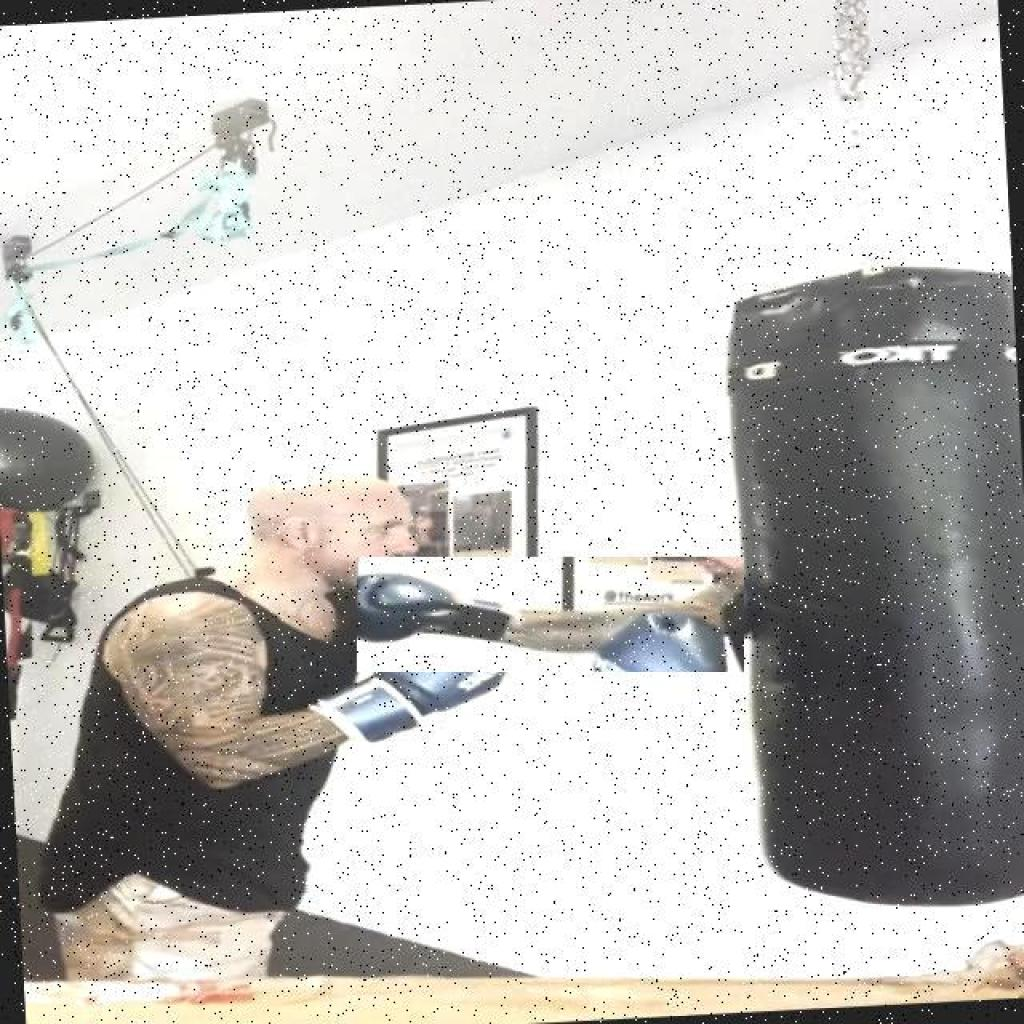bag: (697, 270, 1024, 908)
cross: (357, 557, 744, 673)
